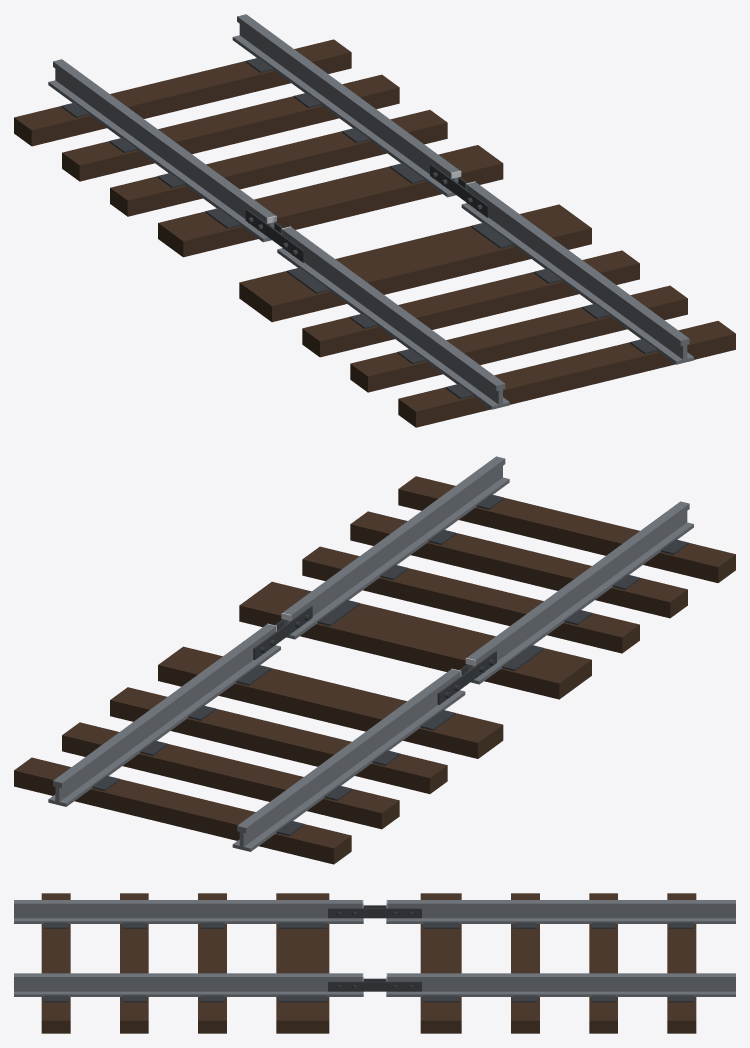
File: prop_rail_joint_gapped.glb
The picture shows the model from 3 angles, top to bottom: view 1: azimuth 30°, elevation 25°; view 2: azimuth 150°, elevation 25°; view 3: azimuth 270°, elevation 25°; orthographic projection. The views are drawn at different scales.
Visible parts, largest first — view 1: sleepers, rail_far_a, rail_near_a, rail_near_b, rail_far_b, tie_plates_near, tie_plates_far, fishplates_far, fishplates_near; view 2: sleepers, rail_near_b, rail_far_b, rail_far_a, rail_near_a, tie_plates_near, tie_plates_far, fishplates_near, fishplates_far; view 3: sleepers, rail_far_b, rail_near_b, rail_far_a, rail_near_a, tie_plates_far, tie_plates_near, fishplates_near, fishplates_far.
Part boxes in pixels (x1,y1,x2,y2): sleepers: (14, 39, 735, 427); rail_far_a: (461, 182, 693, 364); rail_near_a: (277, 227, 509, 409); rail_near_b: (48, 59, 276, 242); rail_far_b: (232, 14, 459, 197); tie_plates_near: (61, 102, 473, 399); tie_plates_far: (246, 57, 657, 354); fishplates_far: (430, 164, 489, 217); fishplates_near: (245, 209, 304, 262); sleepers: (14, 476, 735, 864); rail_near_b: (232, 669, 465, 851); rail_far_b: (48, 624, 280, 806); rail_far_a: (283, 456, 509, 639); rail_near_a: (467, 501, 693, 684); tie_plates_near: (276, 539, 688, 835); tie_plates_far: (92, 494, 503, 790); fishplates_near: (437, 651, 496, 704); fishplates_far: (253, 606, 312, 659); sleepers: (41, 893, 696, 1033); rail_far_b: (386, 973, 735, 996); rail_near_b: (386, 900, 735, 923); rail_far_a: (14, 973, 363, 996); rail_near_a: (14, 900, 363, 923); tie_plates_far: (44, 995, 693, 1002); tie_plates_near: (44, 922, 693, 928); fishplates_near: (328, 905, 421, 918); fishplates_far: (328, 978, 421, 991).
Bounding box in the file's own units: 2.5 × 0.292 × 6.
